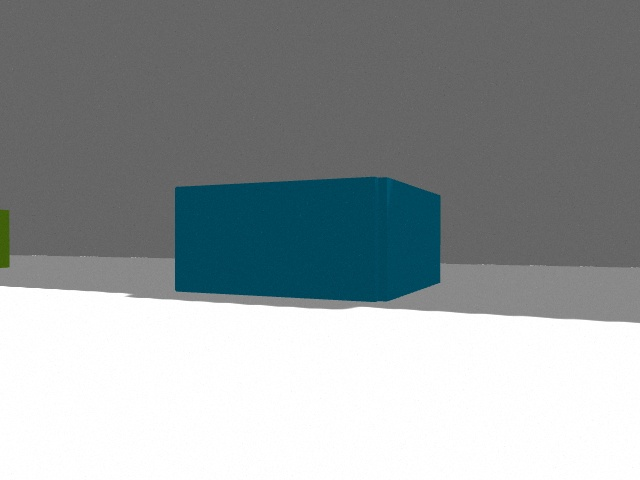blue_drop_zone: (175, 177, 441, 302)
green_drop_zone: (0, 210, 10, 268)
